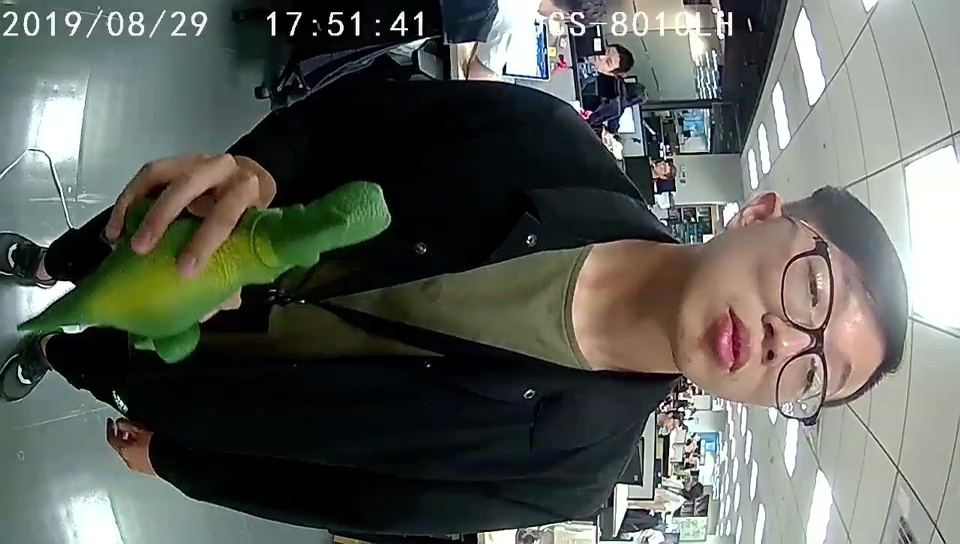rex: (85, 179, 393, 365)
